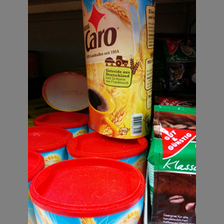coffee: (81, 1, 155, 140), (31, 154, 148, 224), (146, 104, 196, 224)
